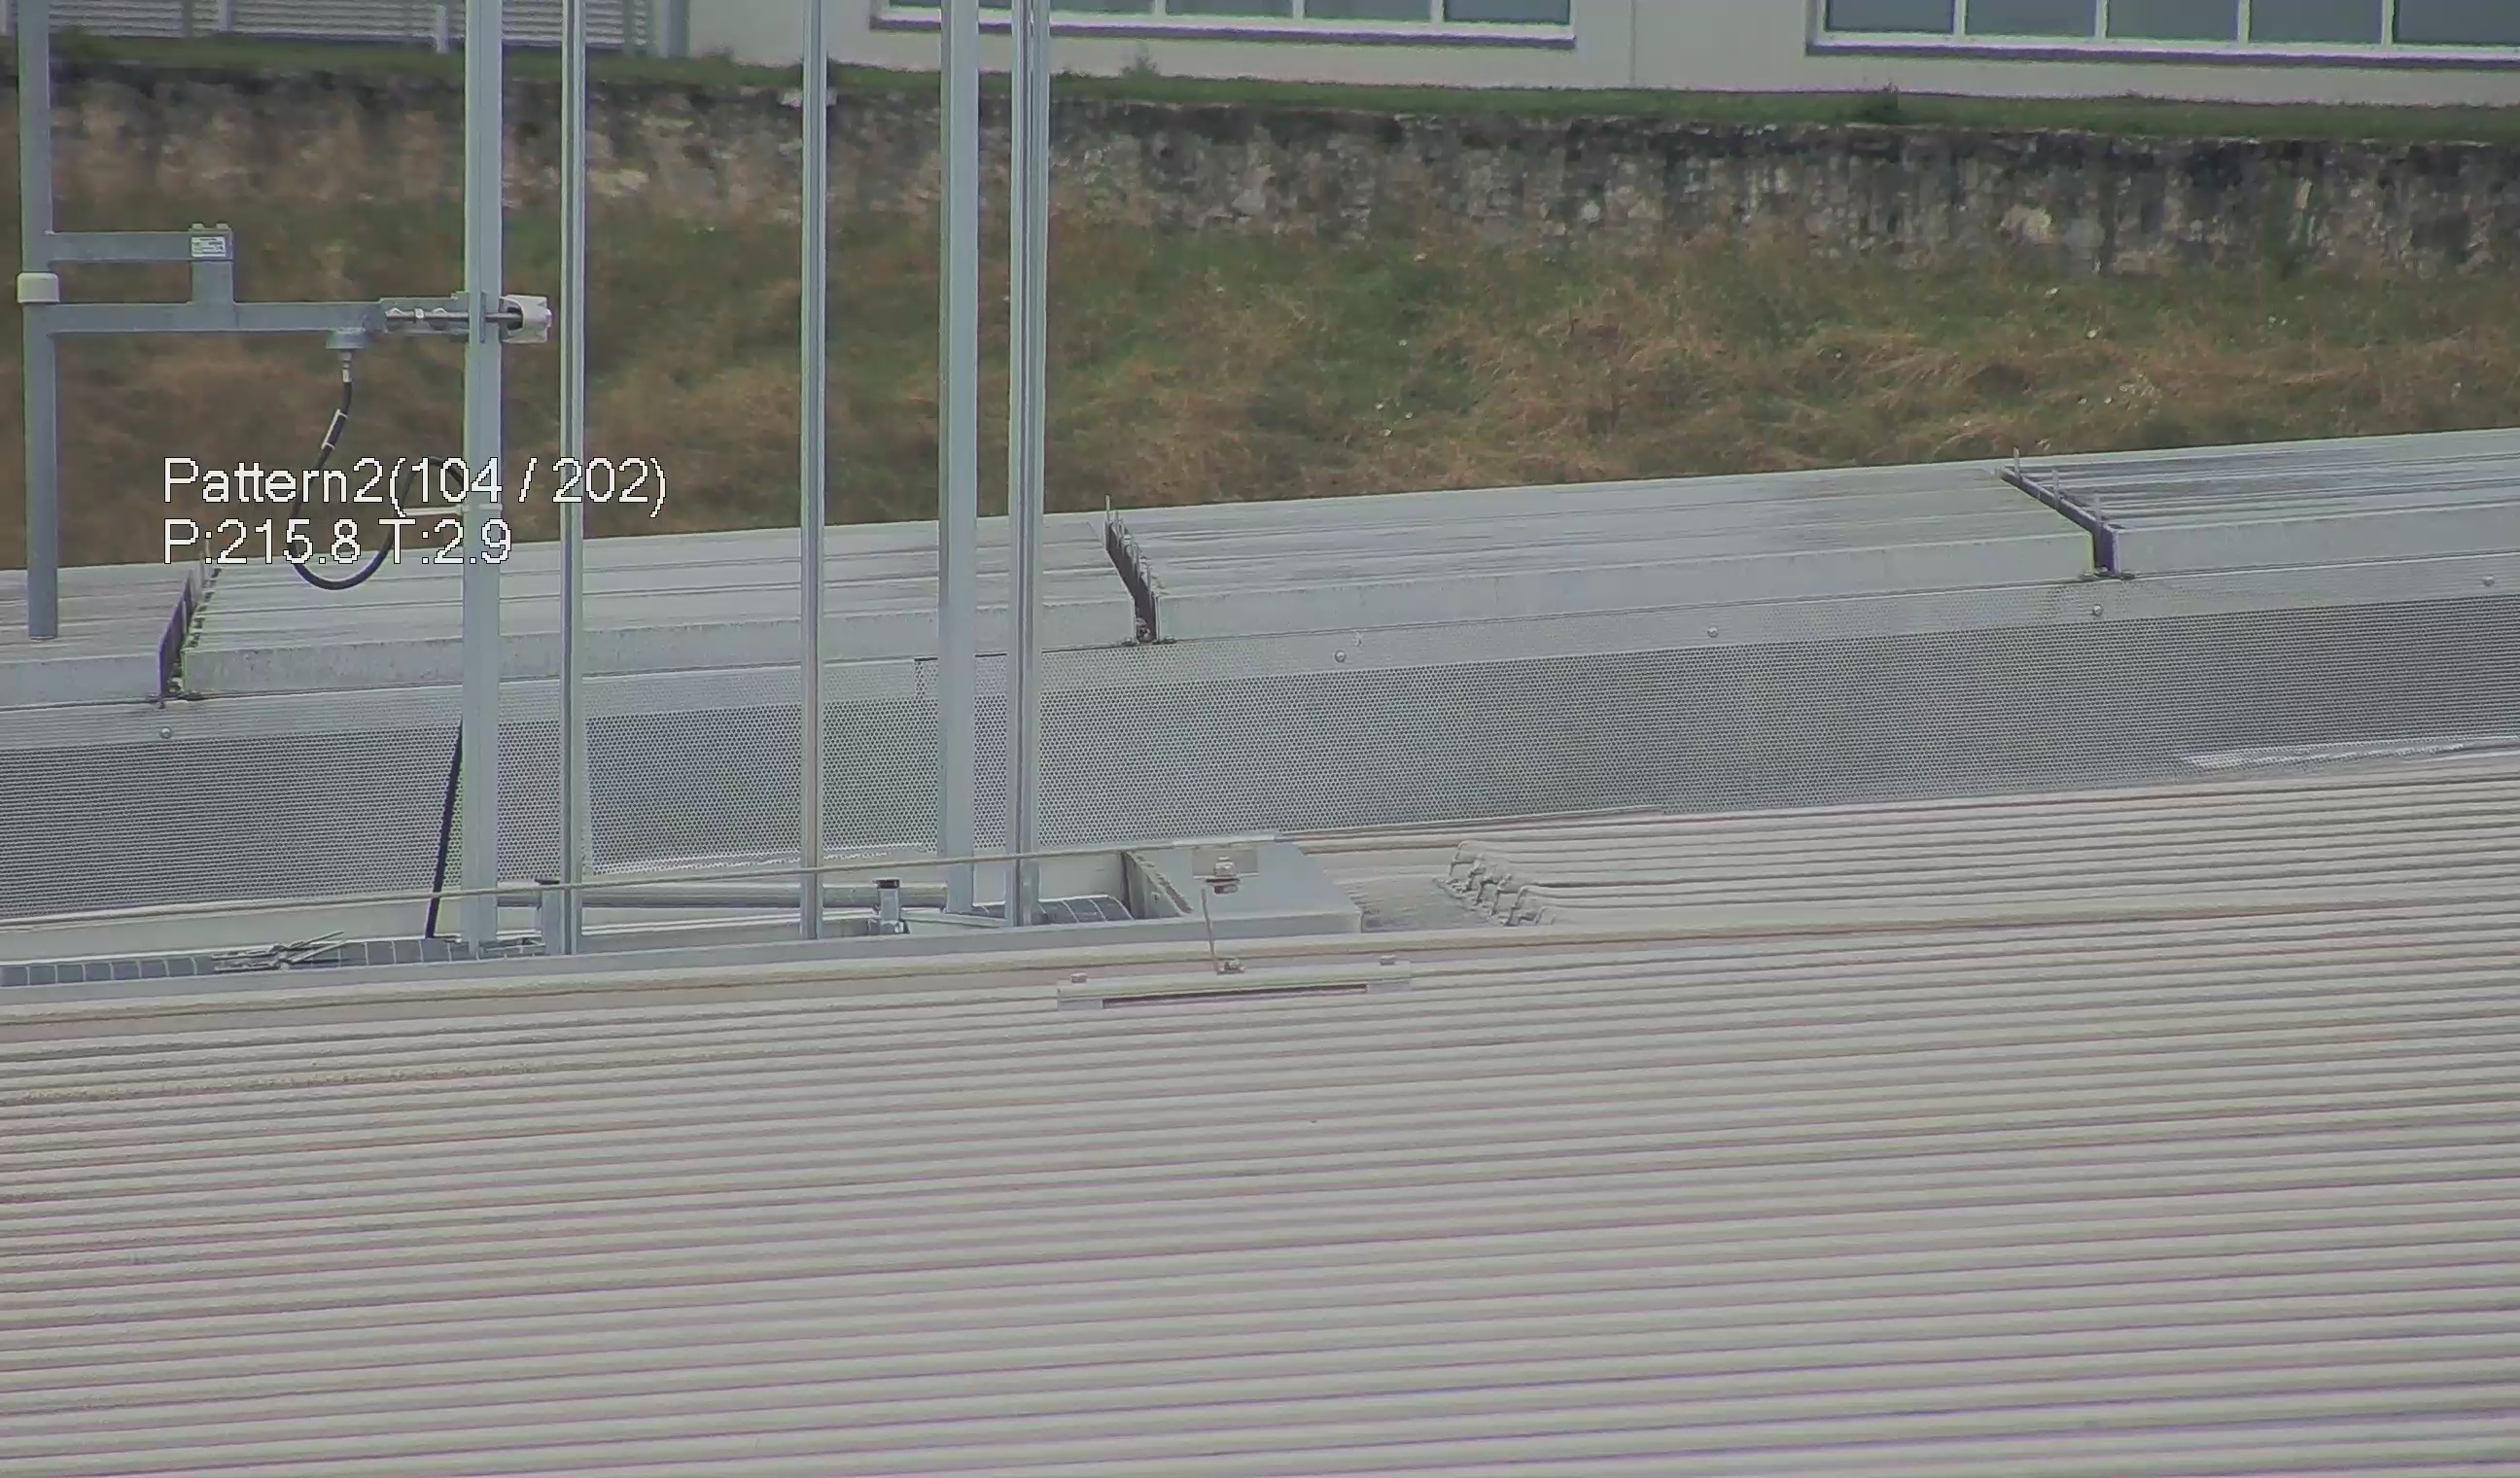Other: (1087, 498, 1178, 642)
